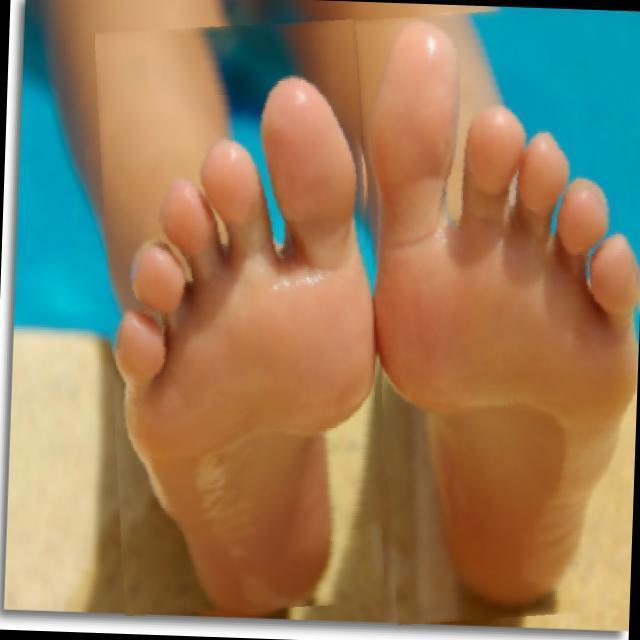No_Shoes: (379, 31, 634, 640), (94, 83, 356, 640)
